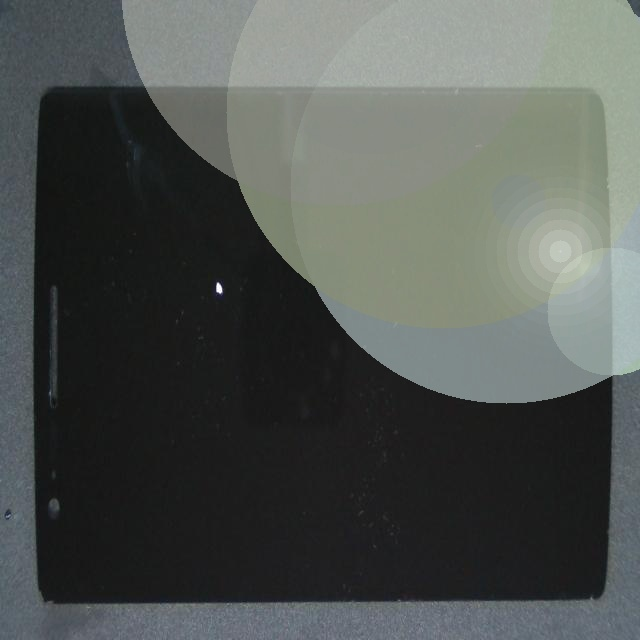stain: (117, 100, 312, 390)
